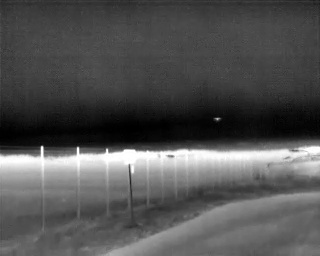AIRPLANE: (213, 114, 222, 124)
